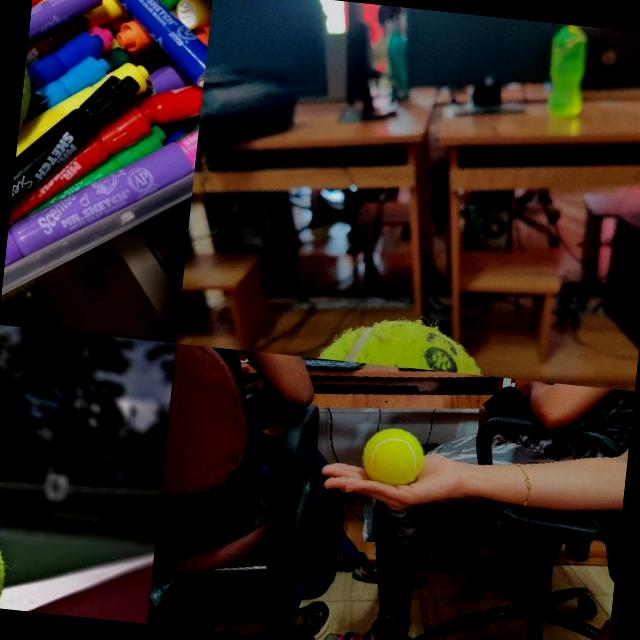tennis-ball: (298, 310, 504, 376), (360, 426, 425, 484)
